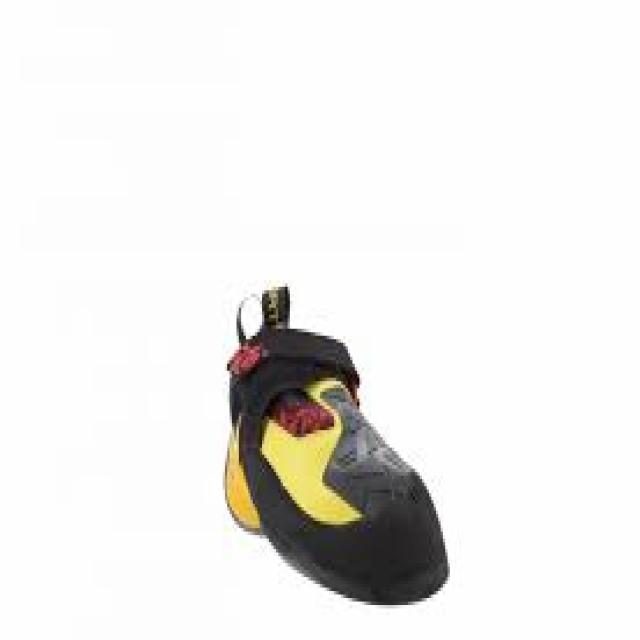climbing-shoes: (225, 283, 452, 612)
